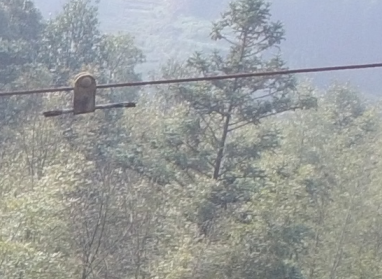damper_defect: (41, 68, 138, 117)
